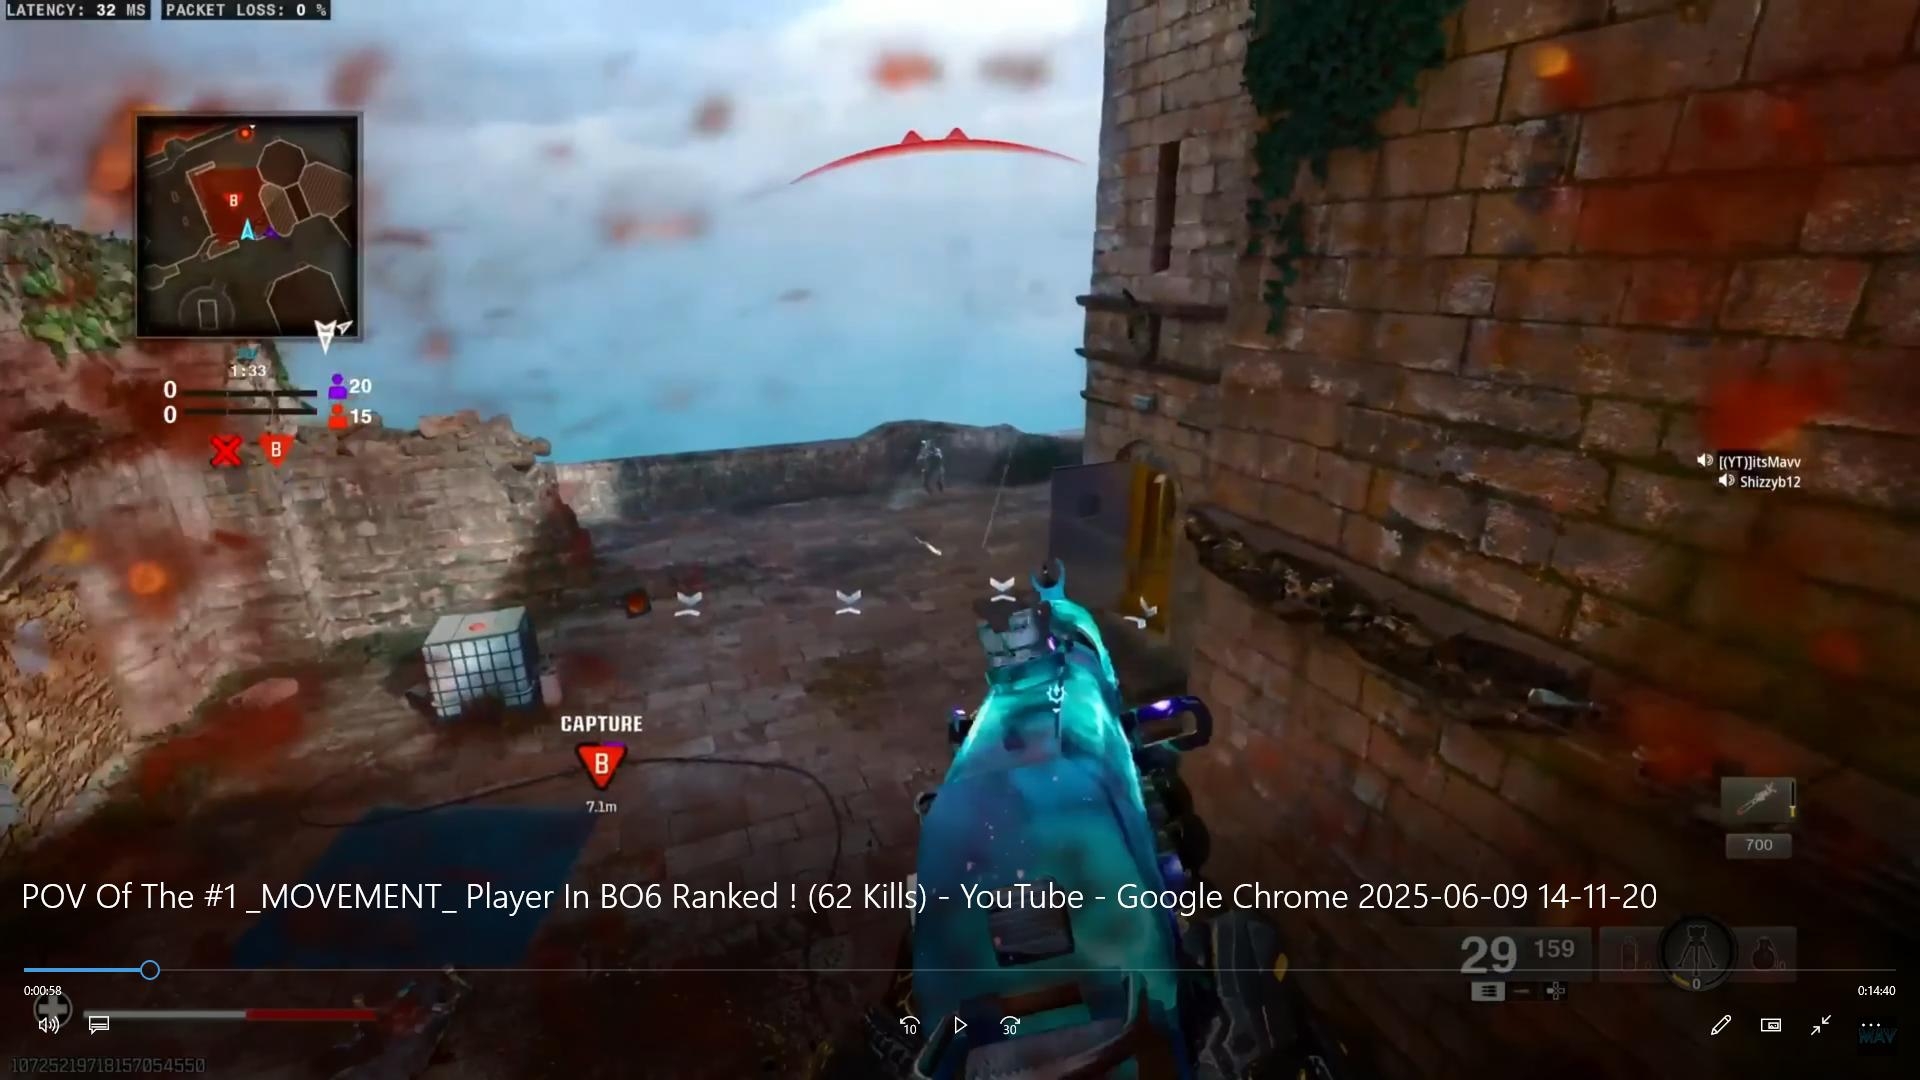Enemy: (909, 429, 955, 497)
